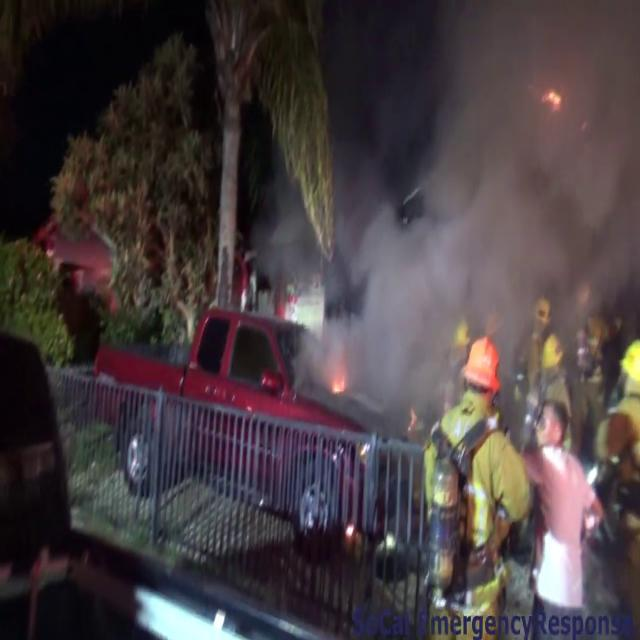Smoke: (300, 0, 639, 397)
